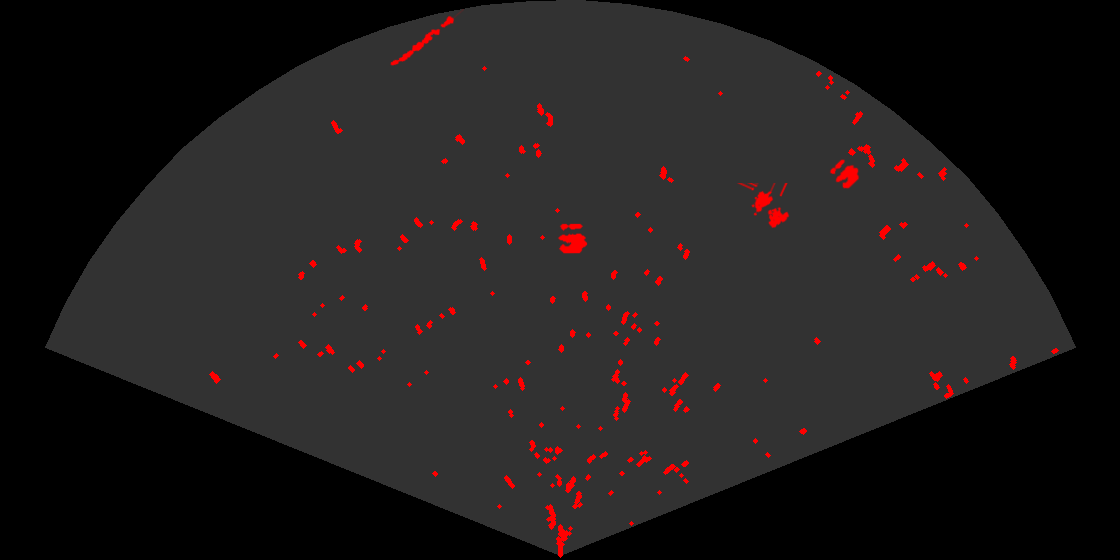ball: (556, 222, 589, 255), (828, 158, 861, 190)
cage: (737, 183, 791, 230)
chain: (389, 9, 464, 67)
